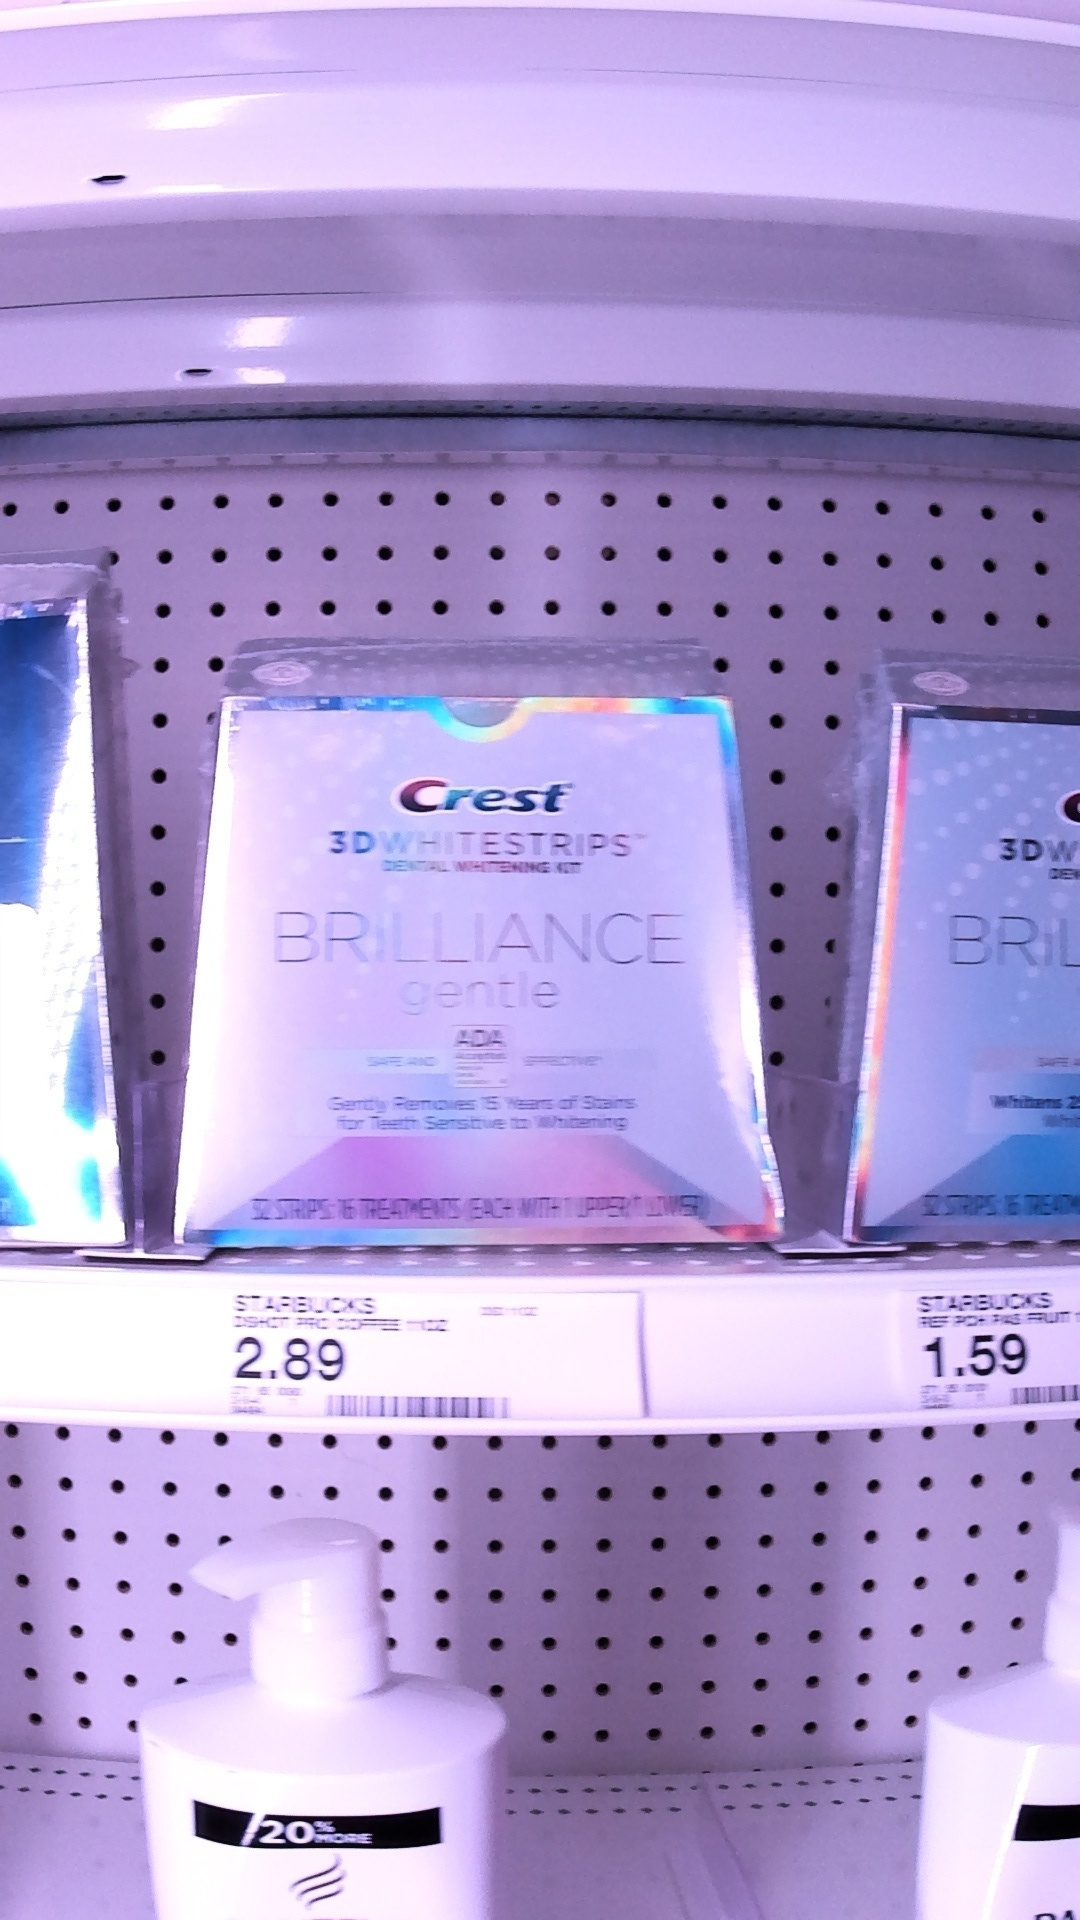ptag: (214, 1273, 549, 1425), (882, 1286, 1080, 1408)
